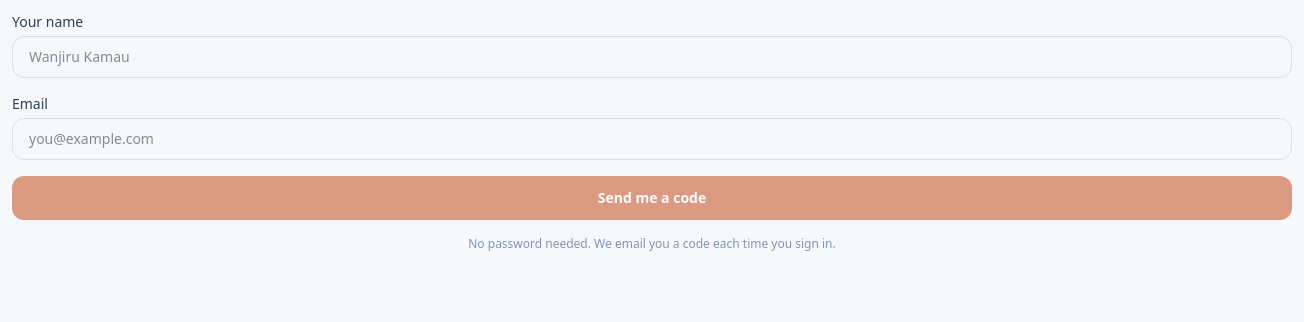
Test: JoinForm › surfaces a rate-limit message rather than silently failing
Type "ada@example.com" into the field labelled "Email" at (652, 139), box [12,118,1292,160]
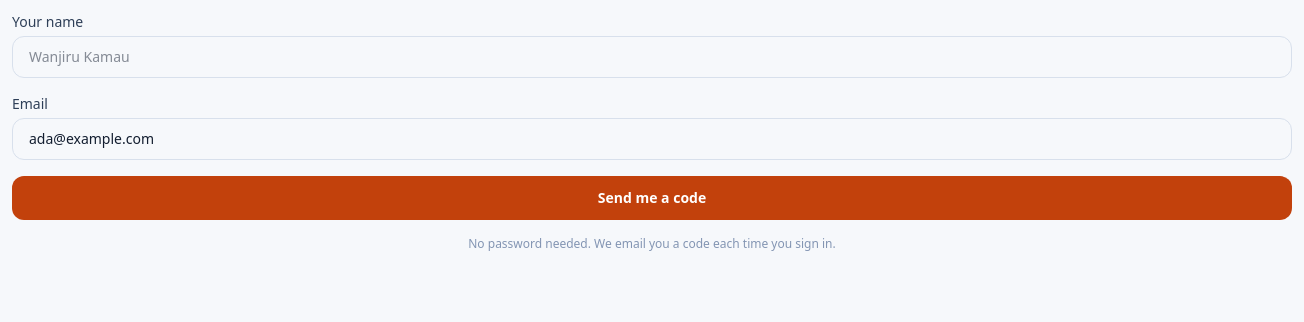
Click the button "Send me a code" at (652, 198), box [12,176,1292,220]
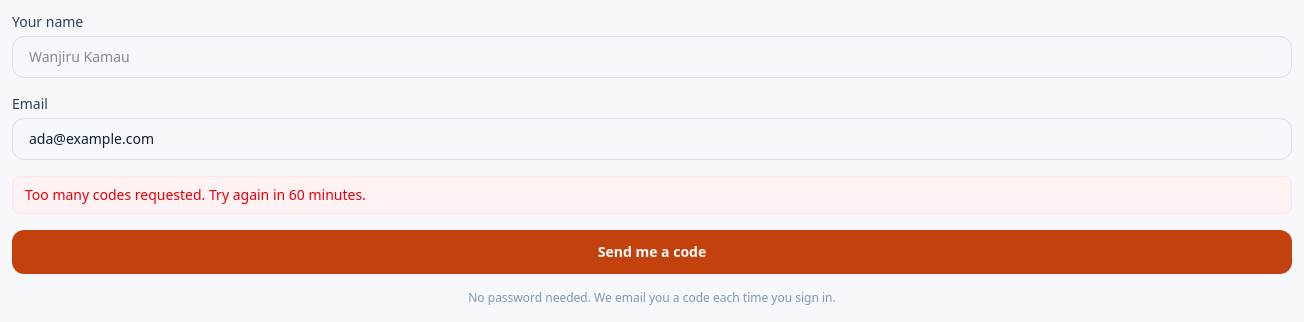
Check: the message shows "Too many codes requested", box [25,185,366,204]
